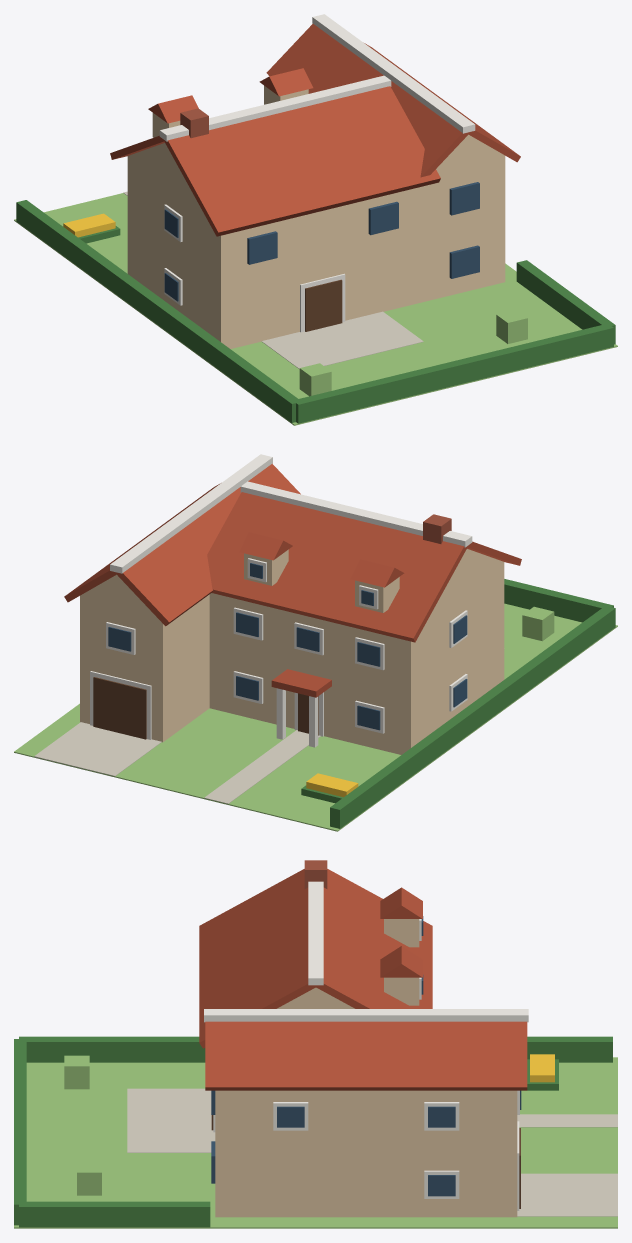
3 renders of one model, top to bottom at view 1: azimuth 30°, elevation 25°; view 2: azimuth 150°, elevation 25°; view 3: azimuth 270°, elevation 25°, orthographic. The views are drawn at different scales.
Visible parts, largest first — view 1: roof (×3), house, hedge (×3), lawn, wing, ridge (×2), patio, window_glass (×4), gable (×2), tree_spot (×2), dormer_roof (×2), door (+3 smaller); view 2: roof (×3), house, lawn, wing, hedge (×2), ridge (×2), driveway, garage_door, gable (×2), path, dormer_roof (×2), dormer (×2) (+5 smaller); view 3: roof (×3), wing, lawn, hedge (×3), ridge (×2), patio, driveway, dormer_roof (×2), window_glass (×3), tree_spot (×2), dormer (×2), path (+4 smaller).
Part boxes in pixels (x1,y1,x2,y2): roof (×3): (163, 24, 520, 236); house: (127, 156, 423, 348); hedge (×3): (16, 200, 615, 423); lawn: (14, 193, 617, 425); wing: (423, 155, 505, 301); ridge (×2): (159, 14, 475, 141); patio: (261, 311, 423, 368); window_glass (×4): (247, 182, 479, 278); gable (×2): (128, 134, 503, 209); tree_spot (×2): (299, 309, 527, 396); dormer_roof (×2): (148, 68, 313, 123); door: (305, 279, 342, 331); roof (×3): (64, 463, 467, 642); house: (209, 562, 504, 754); lawn: (14, 603, 617, 831); wing: (80, 594, 209, 742); hedge (×2): (330, 579, 615, 828); ridge (×2): (110, 454, 472, 573); driveway: (34, 722, 161, 776); garage_door: (93, 677, 146, 739); gable (×2): (81, 549, 503, 615); path: (204, 730, 320, 803); dormer_roof (×2): (239, 532, 404, 587); dormer (×2): (244, 549, 399, 612); roof (×3): (199, 869, 527, 1090); wing: (215, 1090, 517, 1217); lawn: (14, 1057, 617, 1228); hedge (×3): (14, 1036, 612, 1227); ridge (×2): (204, 881, 528, 1022); patio: (127, 1088, 215, 1152); driveway: (517, 1173, 617, 1216); dormer_roof (×2): (380, 887, 422, 977); window_glass (×3): (277, 1106, 455, 1196); tree_spot (×2): (64, 1055, 101, 1195); dormer (×2): (384, 919, 419, 1005); path: (517, 1114, 617, 1127).
Bounding box in the file's own units: 16 × 9.4 × 24.
